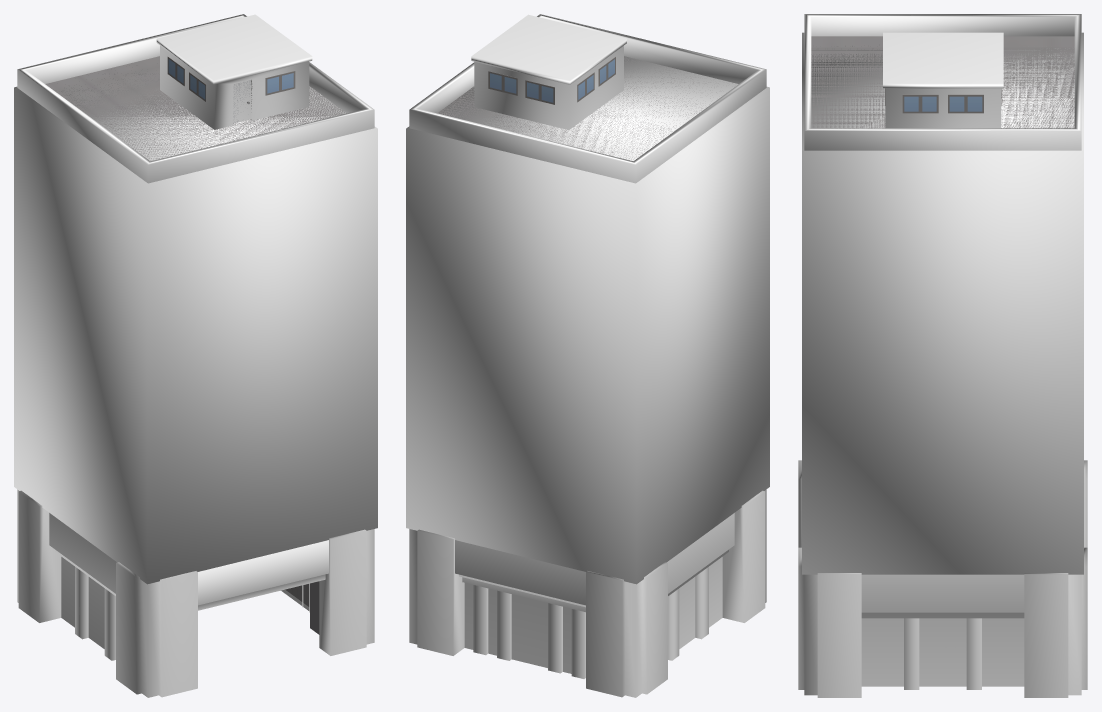
Rendered from objects_un_c03building01_shop.gltf.
3 views of the same model, side by side, from view 1: azimuth 30°, elevation 25°; view 2: azimuth 150°, elevation 25°; view 3: azimuth 270°, elevation 25° (orthographic). The views are drawn at different scales.
Parts seen in each view (by area): view 1: um_objects_un_c03building01_shop_model_lod0Shape:objects_un_ (×3), nomerge_shop_glass01_shape:objects_un_c03building01_glass01; view 2: um_objects_un_c03building01_shop_model_lod0Shape:objects_un_ (×3), nomerge_shop_glass01_shape:objects_un_c03building01_glass01; view 3: um_objects_un_c03building01_shop_model_lod0Shape:objects_un_ (×3), nomerge_shop_glass01_shape:objects_un_c03building01_glass01.
Part boxes in pixels (x1,y1,x2,y2): um_objects_un_c03building01_shop_model_lod0Shape:objects_un_ (×3): (14, 14, 377, 697); nomerge_shop_glass01_shape:objects_un_c03building01_glass01: (168, 59, 293, 99); um_objects_un_c03building01_shop_model_lod0Shape:objects_un_ (×3): (406, 14, 769, 697); nomerge_shop_glass01_shape:objects_un_c03building01_glass01: (490, 59, 614, 102); um_objects_un_c03building01_shop_model_lod0Shape:objects_un_ (×3): (798, 14, 1087, 697); nomerge_shop_glass01_shape:objects_un_c03building01_glass01: (904, 96, 982, 111).
Size of what is drawn, in the model's own units: 12.04 by 27.51 by 12.04.
7 materials, 6 textured.
